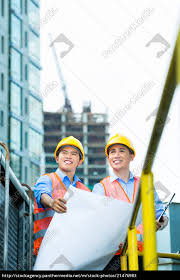helmet: (53, 136, 85, 162), (106, 135, 137, 155)
vest: (38, 175, 92, 252), (104, 179, 153, 253)
